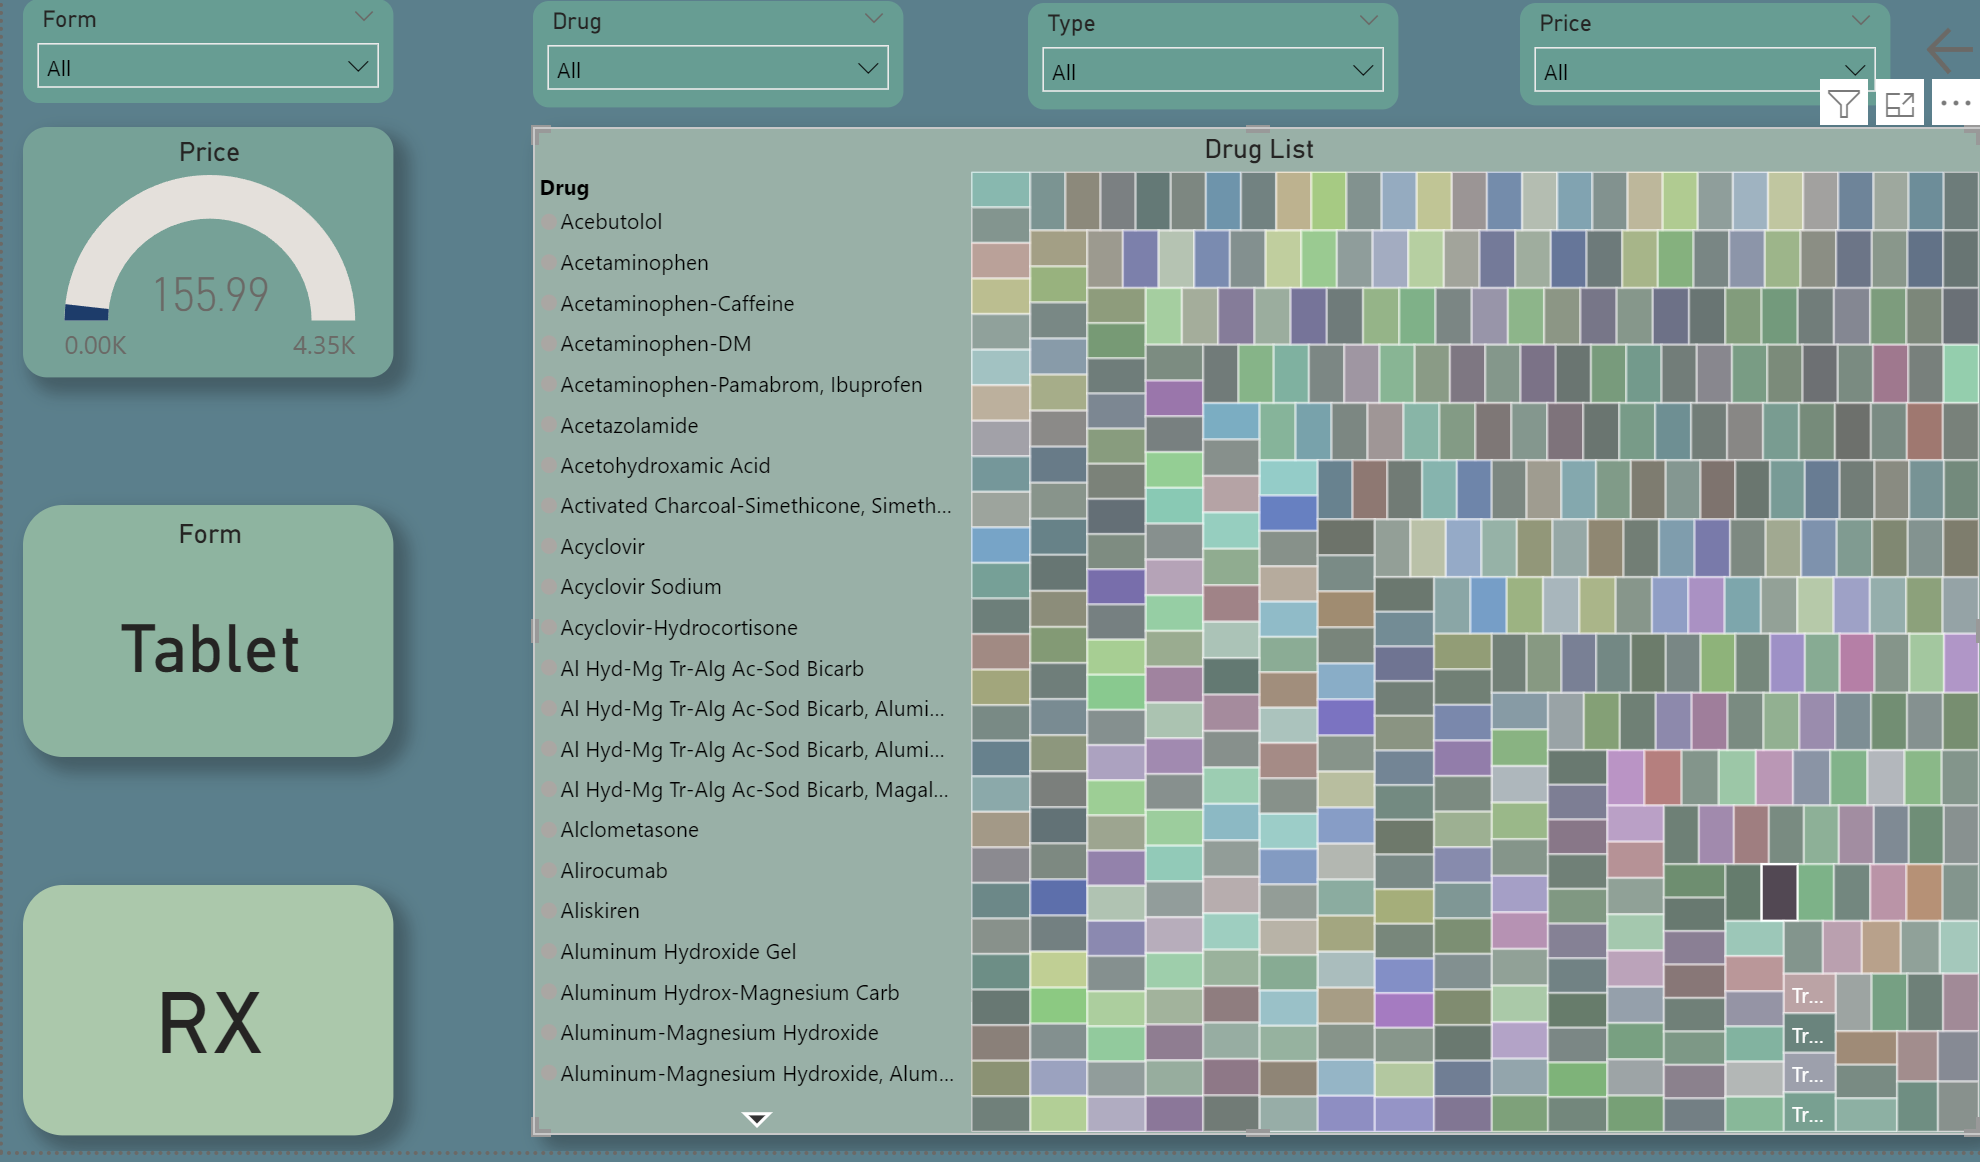

Layout of this report page (visuals, bound fields, positions):
{"tool":"powerbi","page":{"name":"Page 1","canvas":[1280,720],"ordinal":1},"visuals":[{"type":"slicer","fields":{"Values":["Drug_clean.Form"]},"box":[12.5,0,231.2,65],"z":0},{"type":"treemap","title":"Drug List","fields":{"Group":["Drug_clean.Drug"],"Values":["Drug_clean.Drug"]},"box":[331.2,80,905,630],"z":1000},{"type":"gauge","title":" Price","fields":{"Y":["Drug_clean.Price"]},"box":[12.5,80,231.2,156.2],"z":2000},{"type":"card","title":"Form","fields":{"Values":["Drug_clean.Form"]},"box":[12.5,316.2,231.2,157.5],"z":3000},{"type":"card","fields":{"Values":["Drug_clean.Type"]},"box":[12.5,553.8,231.2,156.2],"z":4000},{"type":"slicer","fields":{"Values":["Drug_clean.Drug"]},"box":[331.2,1.2,231.2,66.2],"z":5000},{"type":"slicer","fields":{"Values":["Drug_clean.Type"]},"box":[640,2.5,231.2,66.2],"z":6000},{"type":"slicer","fields":{"Values":["Drug_clean.Price"]},"box":[947.5,2.5,231.2,63.8],"z":7000},{"type":"actionButton","box":[1197.5,12.5,38.8,40],"z":8000}]}

Visuals, with their boxes on the page's 1280x720 design canvas (x1, y1, x2, y2). These are canvas units, not pixel positions in the 1980x1162 screenshot, which may show the page scaled, cropped or inside an application window:
slicer - Drug_clean.Form: 12:0:244:65
"Drug List" treemap: 331:80:1236:710
" Price" gauge: 12:80:244:236
"Form" card: 12:316:244:474
card - Drug_clean.Type: 12:554:244:710
slicer - Drug_clean.Drug: 331:1:562:67
slicer - Drug_clean.Type: 640:2:871:69
slicer - Drug_clean.Price: 948:2:1179:66
actionButton: 1198:12:1236:52
